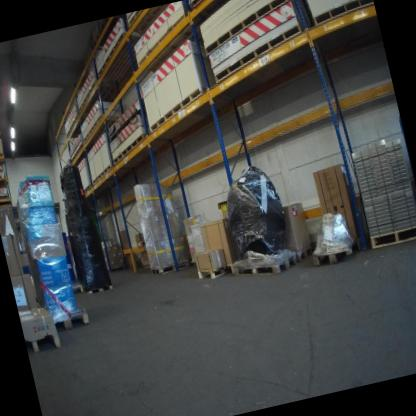pallet: (231, 247, 300, 284), (367, 217, 416, 255), (310, 235, 362, 269), (49, 299, 90, 334), (24, 323, 63, 357), (149, 256, 191, 278), (83, 279, 114, 297), (293, 240, 316, 262), (71, 278, 84, 295)
